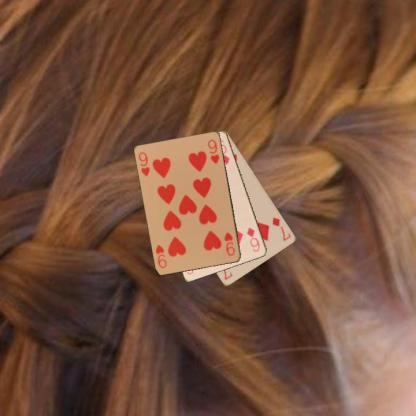6d: (244, 225, 262, 253)
7d: (270, 215, 292, 242)
9h: (136, 150, 152, 178), (222, 229, 236, 257)
